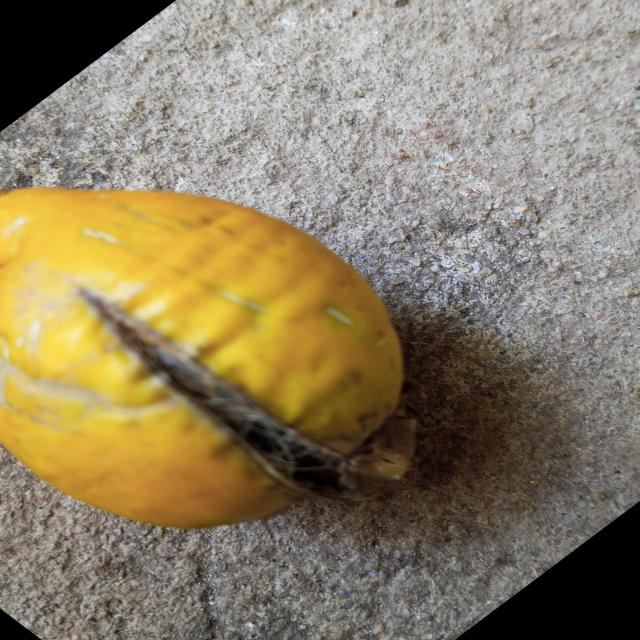damaged: (0, 188, 415, 532)
